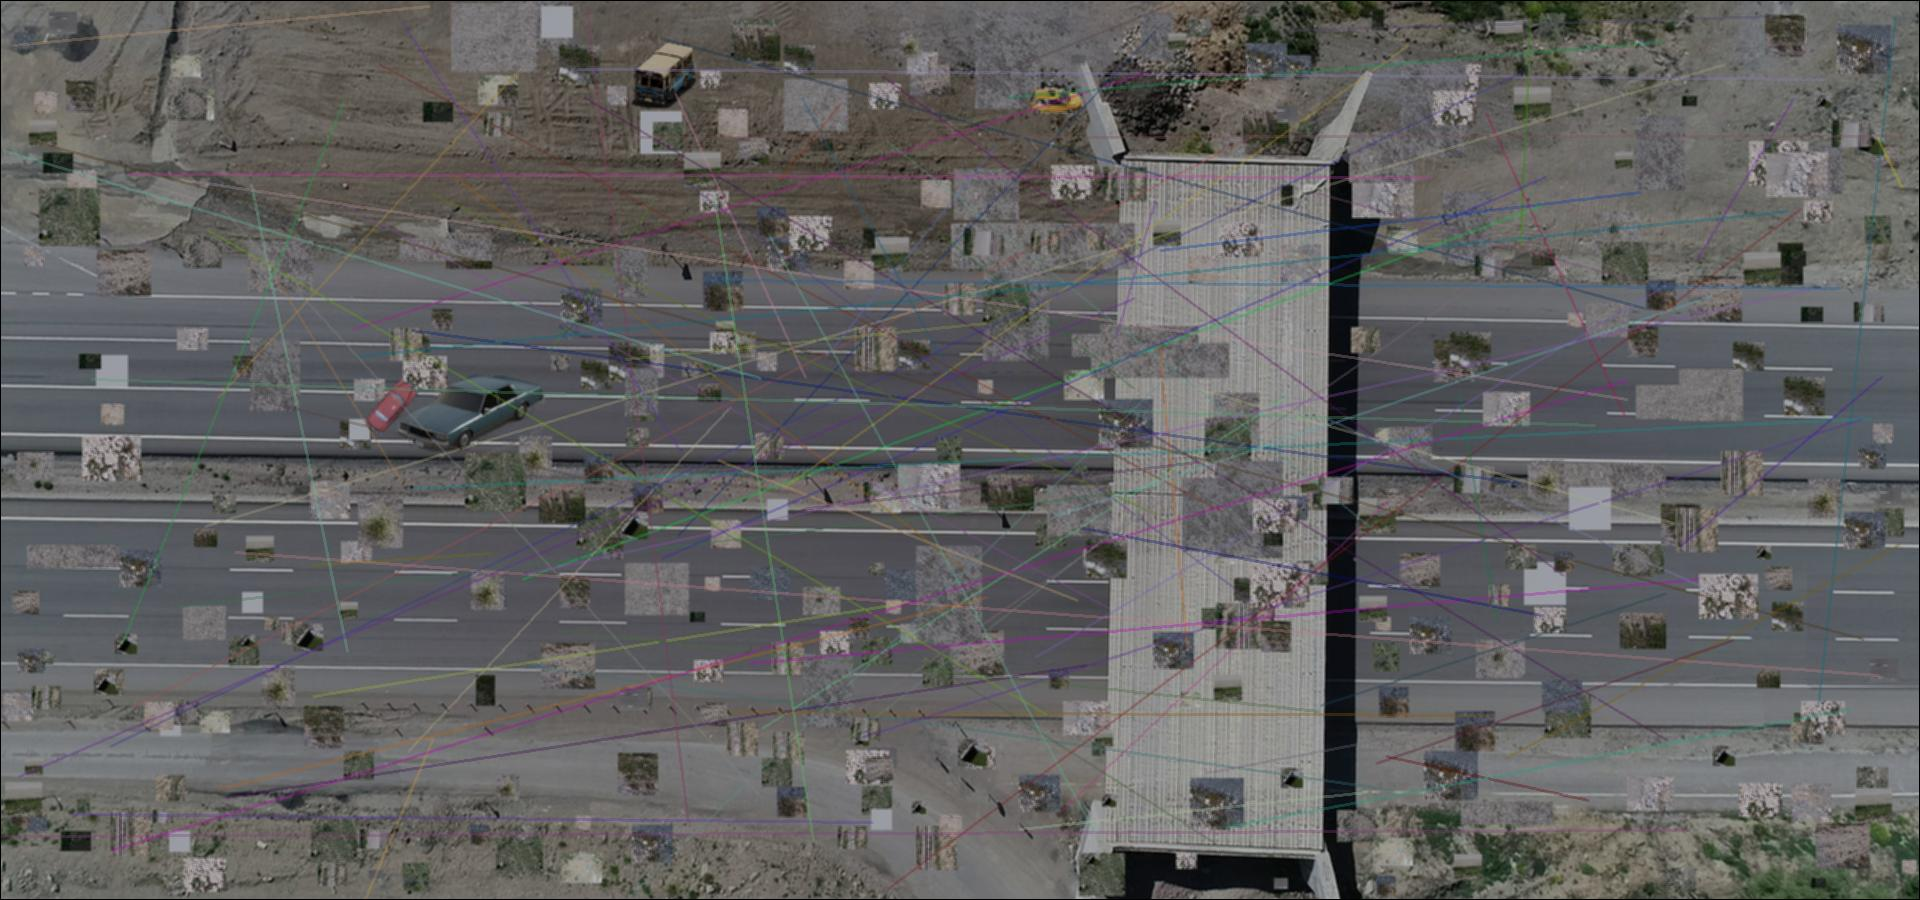arac: (398, 373, 545, 453), (632, 42, 697, 108), (365, 380, 418, 435), (1030, 87, 1082, 116)
